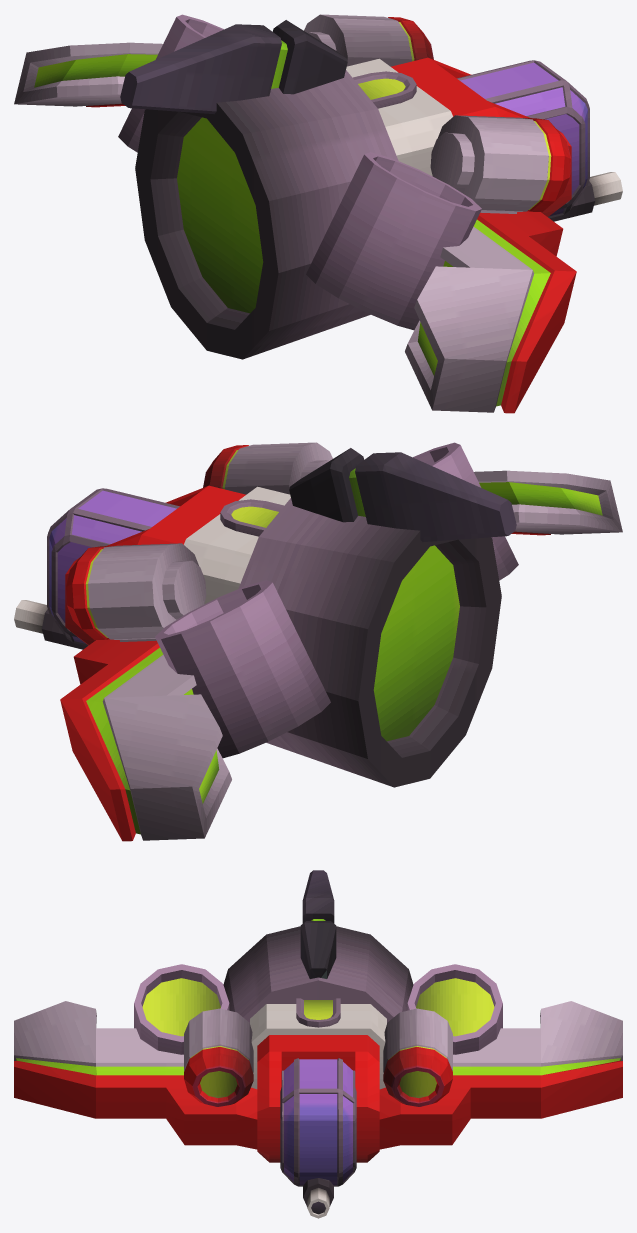
The model's file is SM_Hauler_Level_4.fbx.
3 views of the same model, one above another, from view 1: azimuth 30°, elevation 25°; view 2: azimuth 150°, elevation 25°; view 3: azimuth 270°, elevation 25° (orthographic). The views are drawn at different scales.
Visible parts, largest first — view 1: Hauler_Level_4; view 2: Hauler_Level_4; view 3: Hauler_Level_4.
Boxes of the visible parts, left/top/right/bottom form: Hauler_Level_4: left=14, top=14, right=622, bottom=413; Hauler_Level_4: left=14, top=442, right=622, bottom=841; Hauler_Level_4: left=14, top=870, right=622, bottom=1218.
Size of the model in its own units: 497 by 302 by 735.
1 material, 1 textured.
